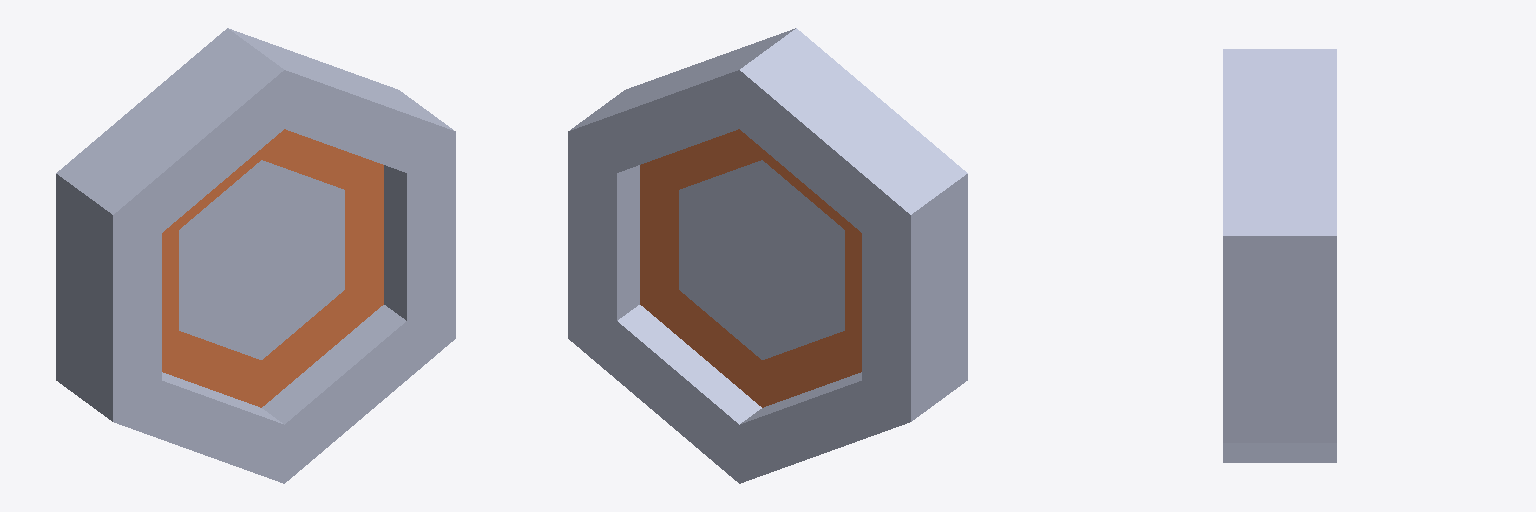
Rendered from SilverCoin.obj.
3 views of the same model, side by side, from view 1: azimuth 30°, elevation 25°; view 2: azimuth 150°, elevation 25°; view 3: azimuth 270°, elevation 25° (orthographic).
Parts seen in each view (by area): view 1: mergedBlocks; view 2: mergedBlocks; view 3: mergedBlocks.
Part boxes in pixels (x1,y1,x2,y2): mergedBlocks: (56, 28, 455, 483); mergedBlocks: (568, 28, 967, 483); mergedBlocks: (1223, 49, 1336, 462).
Bounding box in the file's own units: 0.3464 × 0.4 × 0.1.